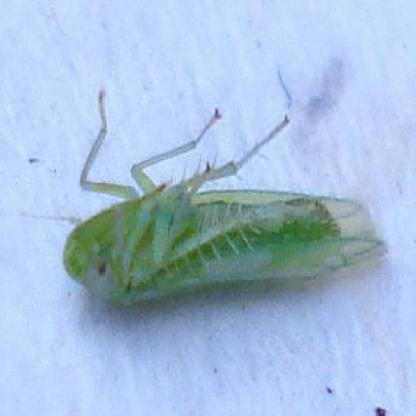green-leafhopper: (67, 156, 376, 302)
